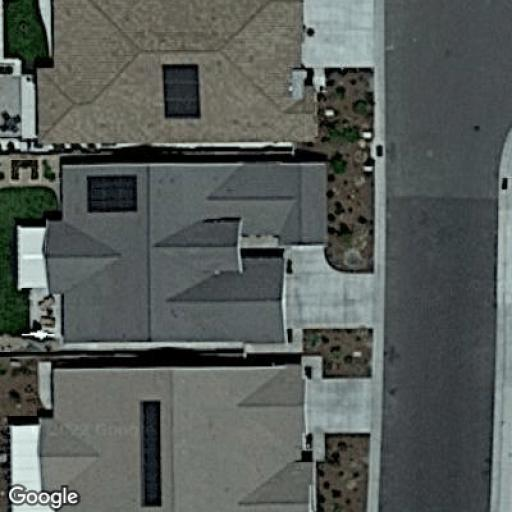solar-panel: (135, 397, 168, 508), (159, 62, 204, 121), (83, 172, 141, 216)
